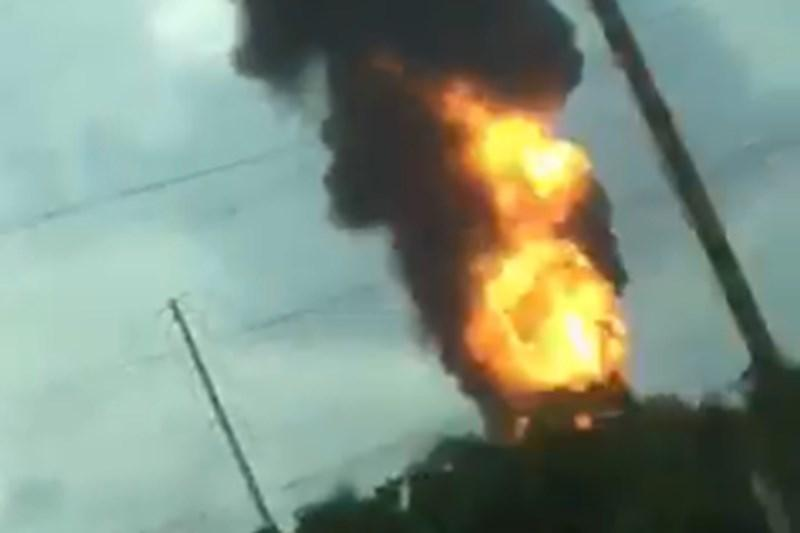fire: (461, 105, 604, 395)
smoke: (284, 0, 445, 279), (450, 0, 574, 88)
